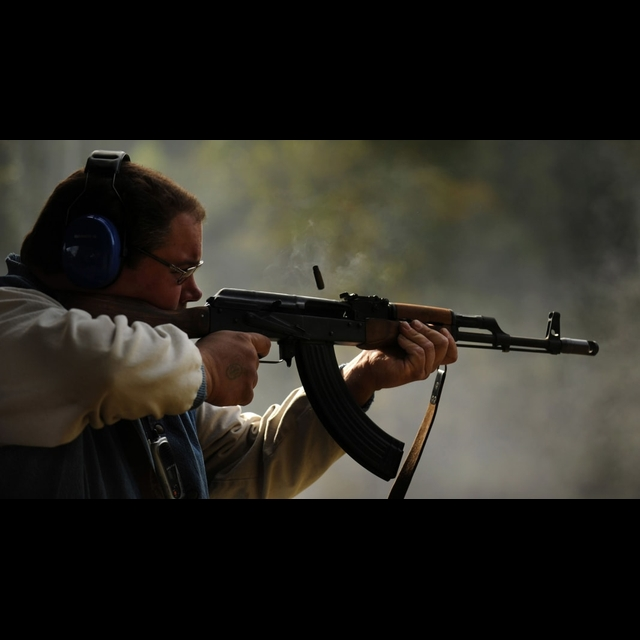AK47: (191, 261, 604, 486)
